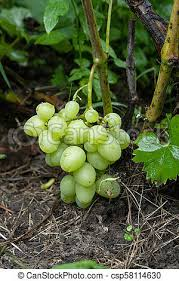grapes: (25, 92, 132, 212)
